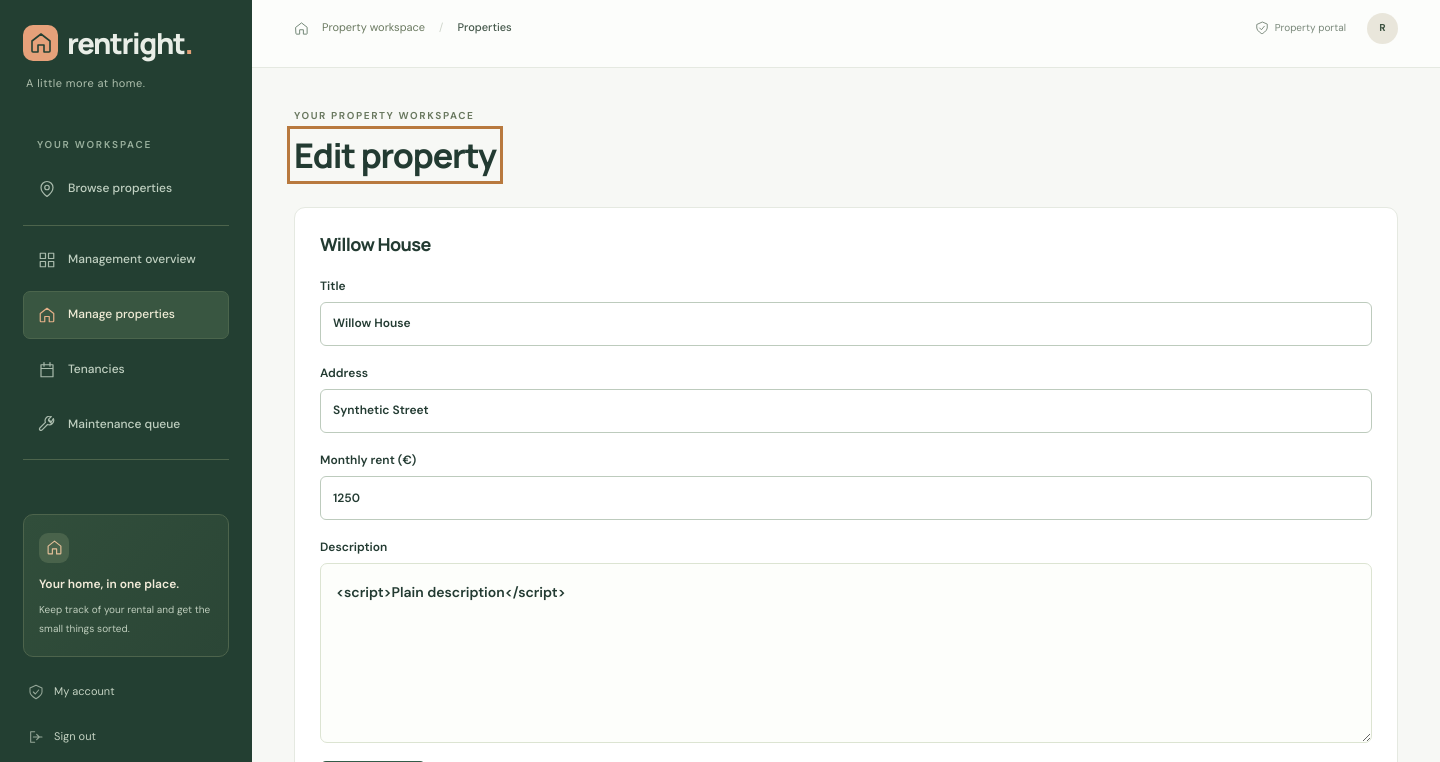
Test: keeps entered values and does not automatically retry a conflicting property edit
The image size is (1440, 762).
Replace the text in the field labelled "Title" with "My unsaved title" at (846,324), box [320,302,1372,346]
(page scrolled)
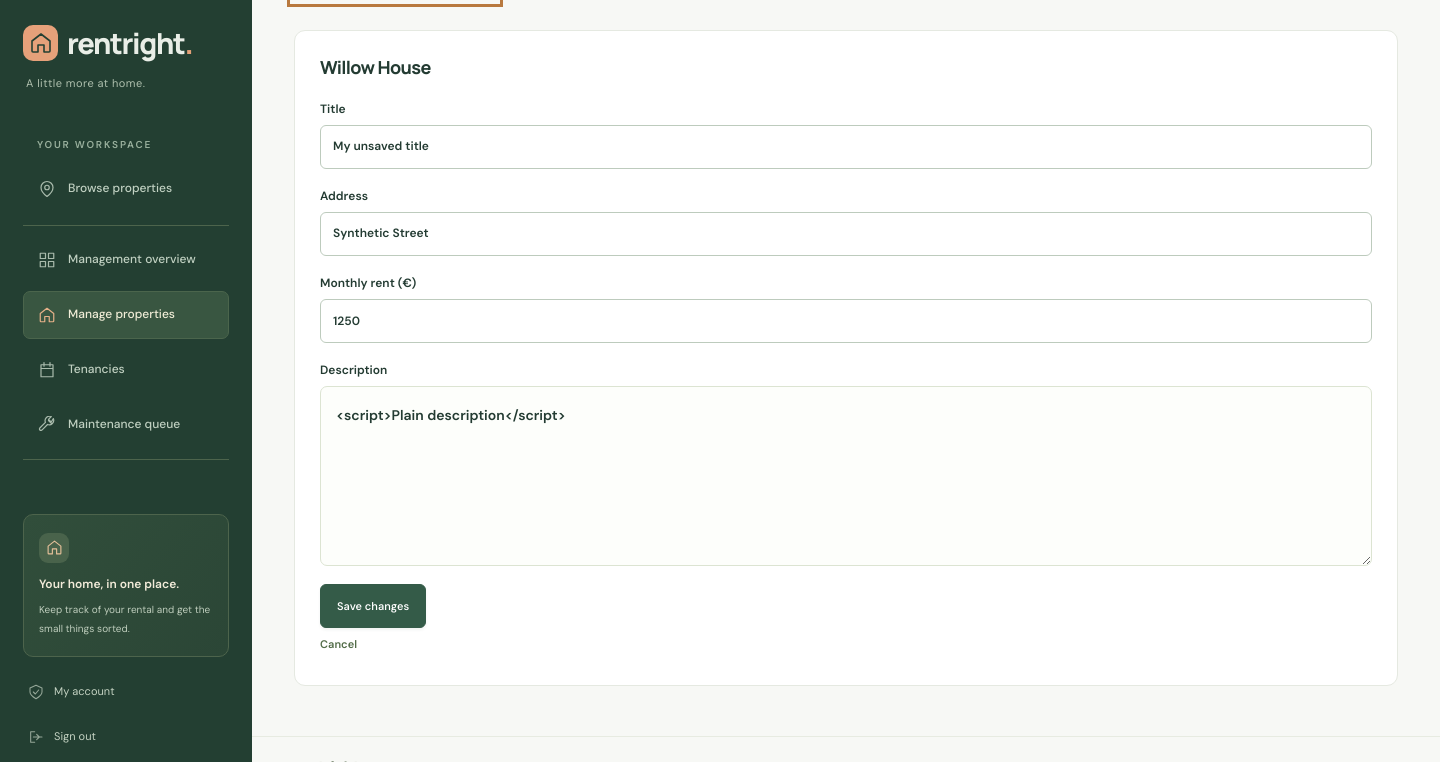
Click the button "Save changes" at (373,606), box [320,584,426,628]
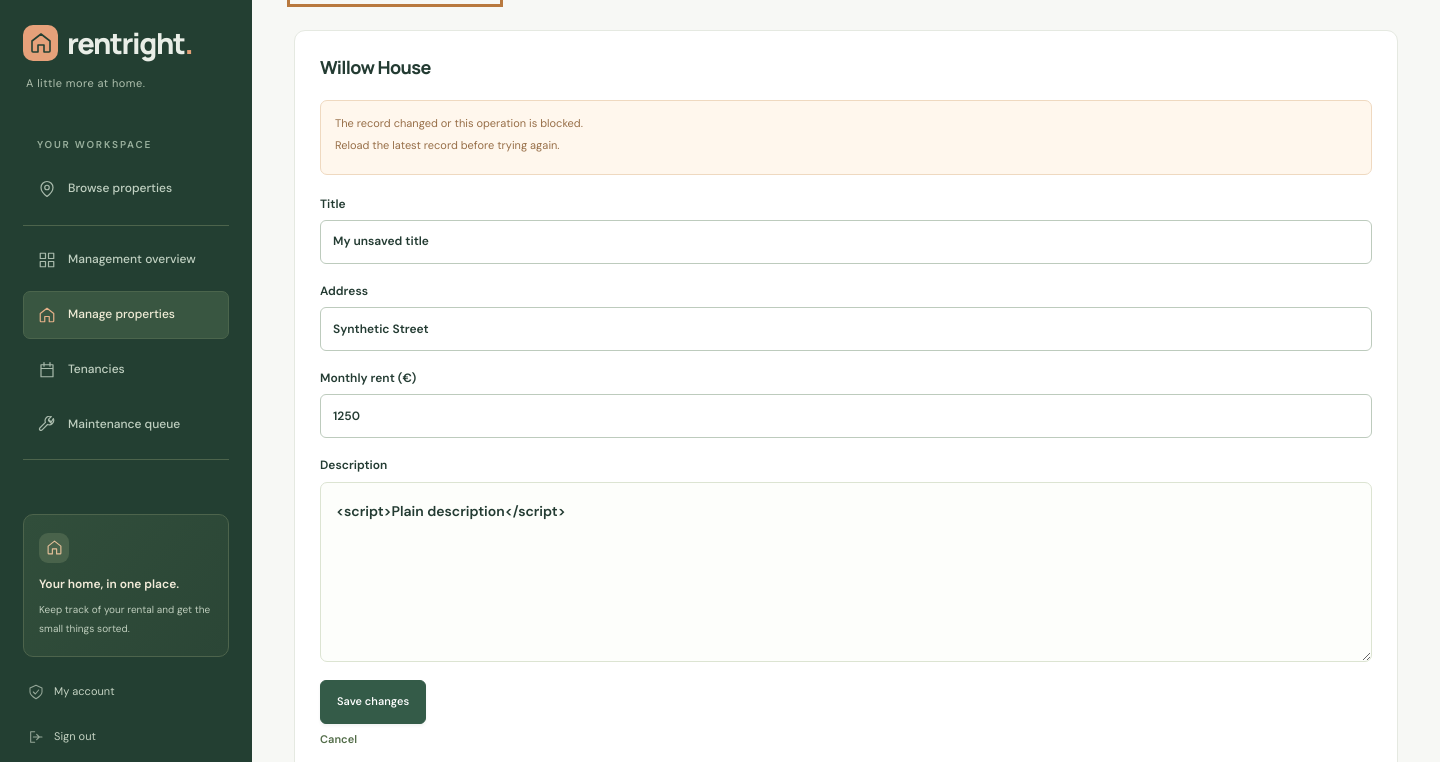
Expected: the message is shown, [320,100,1372,175]
